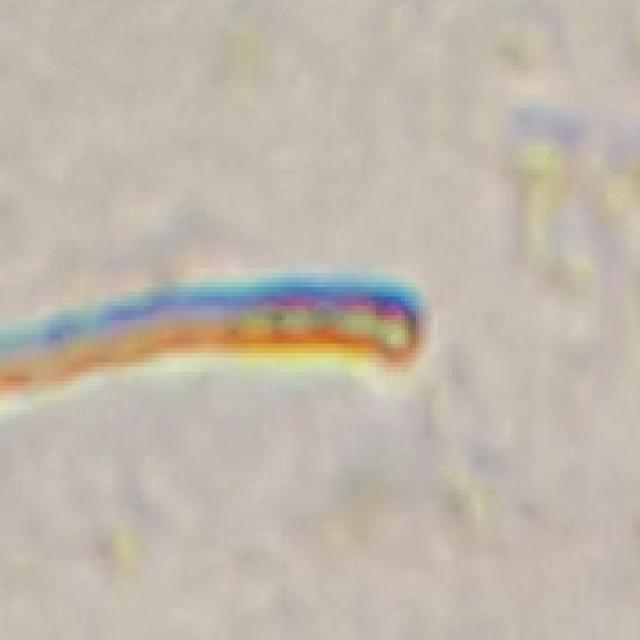non-sperm: (0, 276, 427, 411)
